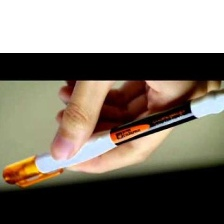correction_fluid: (0, 82, 224, 188)
